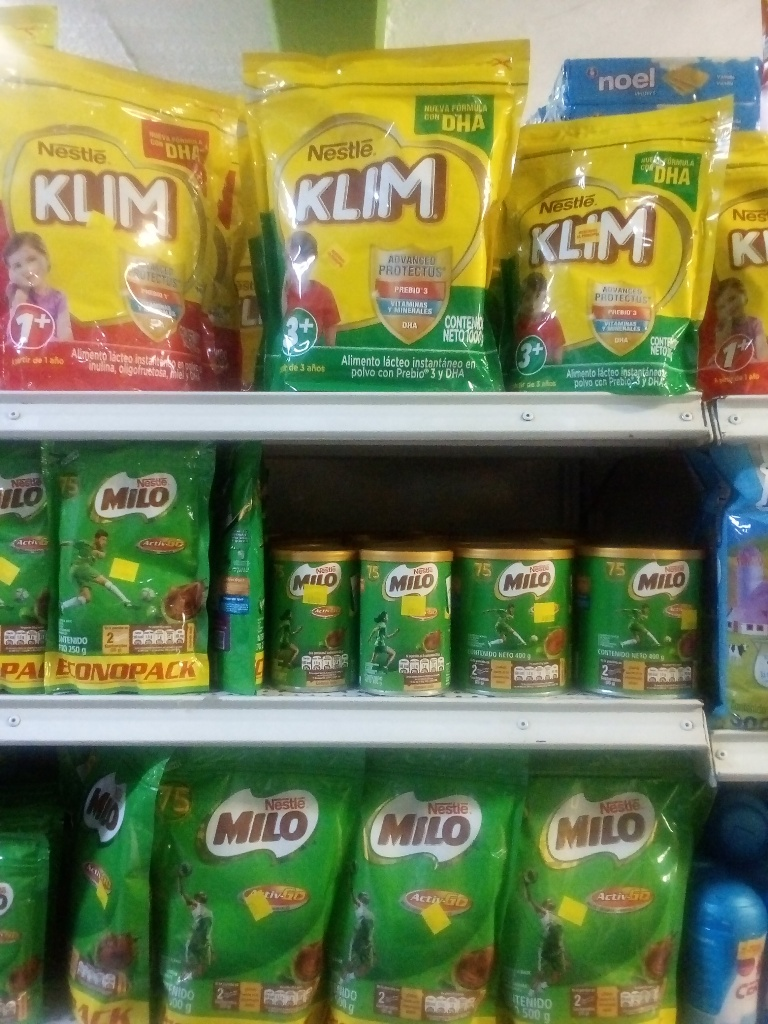COL0170203LAT20000: (273, 540, 360, 694)
COL0170203LAT40000: (456, 541, 577, 692)
